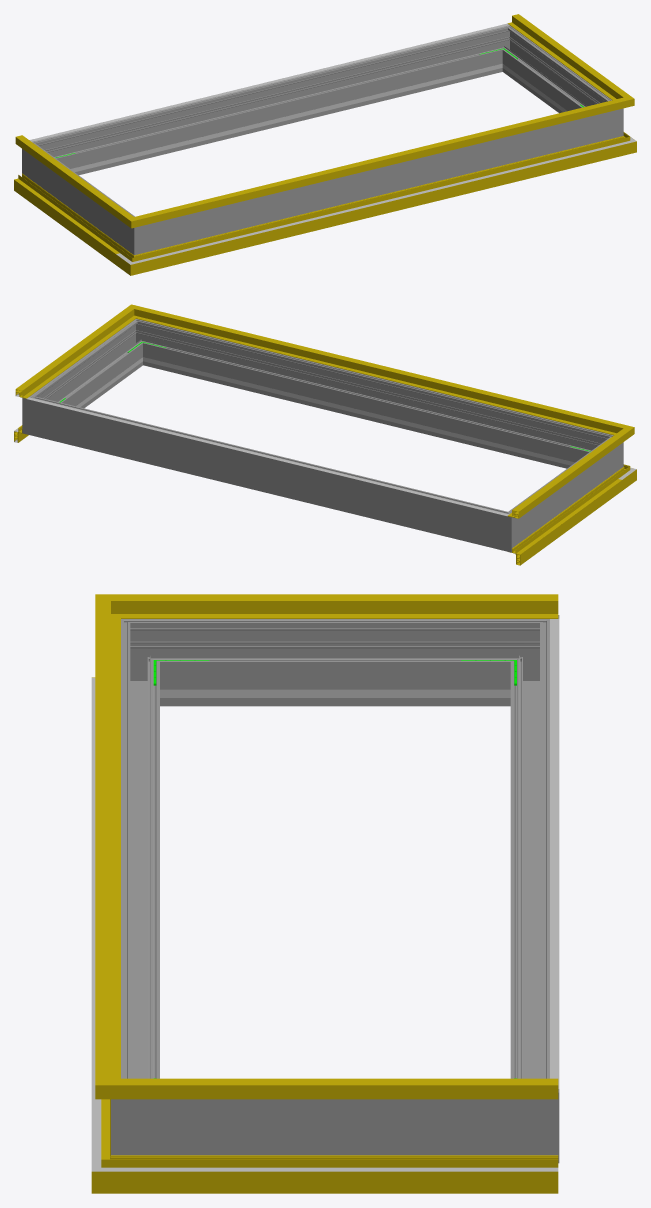
3 views of the same model, one above another, from view 1: azimuth 30°, elevation 25°; view 2: azimuth 150°, elevation 25°; view 3: azimuth 270°, elevation 25° (orthographic). The views are drawn at different scales.
Parts seen in each view (by area): view 1: 3DGeom-276, 3DGeom-298, 3DGeom-90, 3DGeom-123, 3DGeom-297, 3DGeom-268, 3DGeom-85, 3DGeom-244, 3DGeom-128, 3DGeom-118, 3DGeom-220, 3DGeom-100 (+9 smaller); view 2: 3DGeom-298, 3DGeom-276, 3DGeom-123, 3DGeom-297, 3DGeom-268, 3DGeom-85, 3DGeom-239, 3DGeom-128, 3DGeom-118, 3DGeom-278, 3DGeom-220, 3DGeom-284 (+5 smaller); view 3: 3DGeom-268, 3DGeom-297, 3DGeom-276, 3DGeom-298, 3DGeom-97, 3DGeom-123, 3DGeom-118, 3DGeom-128, 3DGeom-220, 3DGeom-284, 3DGeom-290, 3DGeom-270 (+7 smaller).
Part boxes in pixels (bbox=[...]): 3DGeom-276: bbox=[50, 30, 498, 174]; 3DGeom-298: bbox=[159, 114, 598, 248]; 3DGeom-90: bbox=[151, 140, 611, 269]; 3DGeom-123: bbox=[153, 102, 609, 221]; 3DGeom-297: bbox=[505, 34, 604, 113]; 3DGeom-268: bbox=[36, 150, 127, 244]; 3DGeom-85: bbox=[14, 173, 123, 264]; 3DGeom-244: bbox=[79, 69, 478, 170]; 3DGeom-128: bbox=[507, 14, 619, 97]; 3DGeom-118: bbox=[15, 135, 123, 217]; 3DGeom-220: bbox=[29, 23, 509, 141]; 3DGeom-100: bbox=[154, 146, 610, 258]; 3DGeom-298: bbox=[147, 324, 595, 468]; 3DGeom-276: bbox=[47, 400, 490, 546]; 3DGeom-123: bbox=[150, 310, 608, 432]; 3DGeom-297: bbox=[41, 328, 140, 408]; 3DGeom-268: bbox=[518, 444, 608, 537]; 3DGeom-85: bbox=[510, 474, 622, 565]; 3DGeom-239: bbox=[167, 363, 565, 464]; 3DGeom-128: bbox=[15, 315, 127, 398]; 3DGeom-118: bbox=[508, 436, 619, 518]; 3DGeom-278: bbox=[486, 504, 526, 552]; 3DGeom-220: bbox=[26, 397, 508, 516]; 3DGeom-284: bbox=[22, 388, 51, 439]; 3DGeom-268: bbox=[169, 619, 500, 706]; 3DGeom-297: bbox=[169, 1099, 500, 1155]; 3DGeom-276: bbox=[510, 639, 549, 1078]; 3DGeom-298: bbox=[121, 639, 159, 1078]; 3DGeom-97: bbox=[150, 1155, 558, 1193]; 3DGeom-123: bbox=[95, 619, 120, 1073]; 3DGeom-118: bbox=[153, 594, 558, 618]; 3DGeom-128: bbox=[153, 1078, 558, 1099]; 3DGeom-220: bbox=[550, 618, 559, 1089]; 3DGeom-284: bbox=[501, 1068, 559, 1163]; 3DGeom-290: bbox=[111, 1068, 169, 1155]; 3DGeom-270: bbox=[121, 619, 169, 706].
Bounding box in the file's own units: 3.05 × 0.3069 × 1.22.
